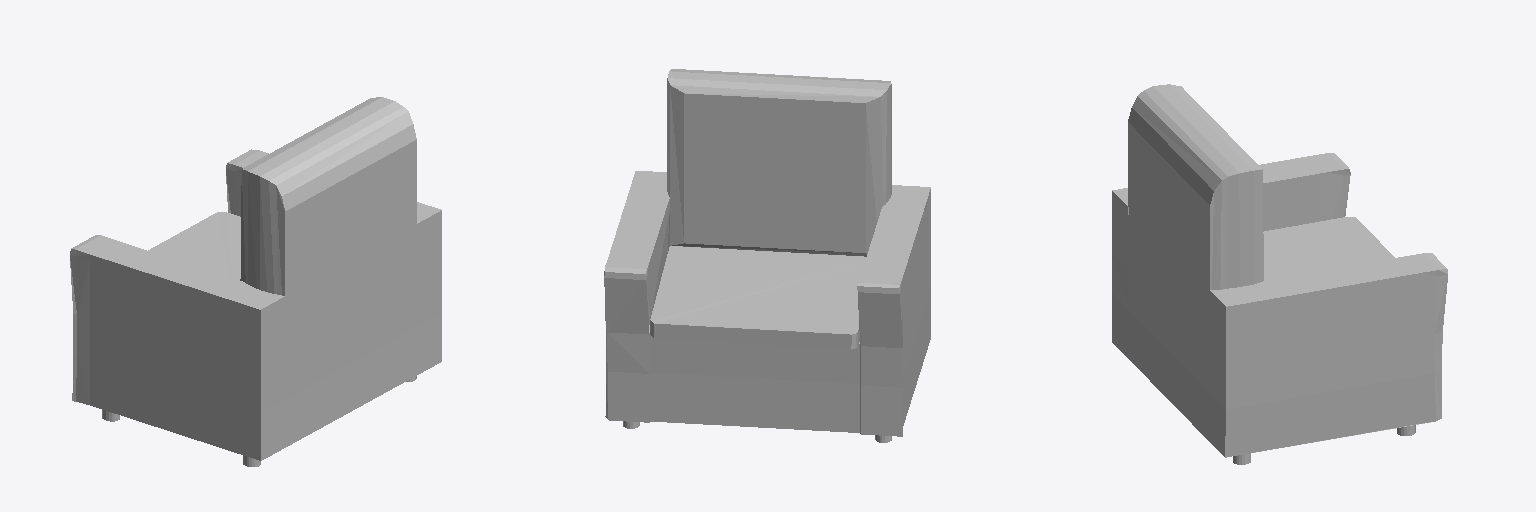
Rendered from sofachair.obj.
3 views of the same model, side by side, from view 1: azimuth 30°, elevation 25°; view 2: azimuth 150°, elevation 25°; view 3: azimuth 270°, elevation 25° (orthographic).
Visible parts, largest first — view 1: SingleSofaChair4; view 2: SingleSofaChair4; view 3: SingleSofaChair4.
Boxes of the visible parts, x1,y1,x2,y2 form: SingleSofaChair4: [70, 97, 441, 460]; SingleSofaChair4: [604, 69, 930, 436]; SingleSofaChair4: [1112, 84, 1447, 457].
Size of the model in its own units: 125 by 105 by 114.